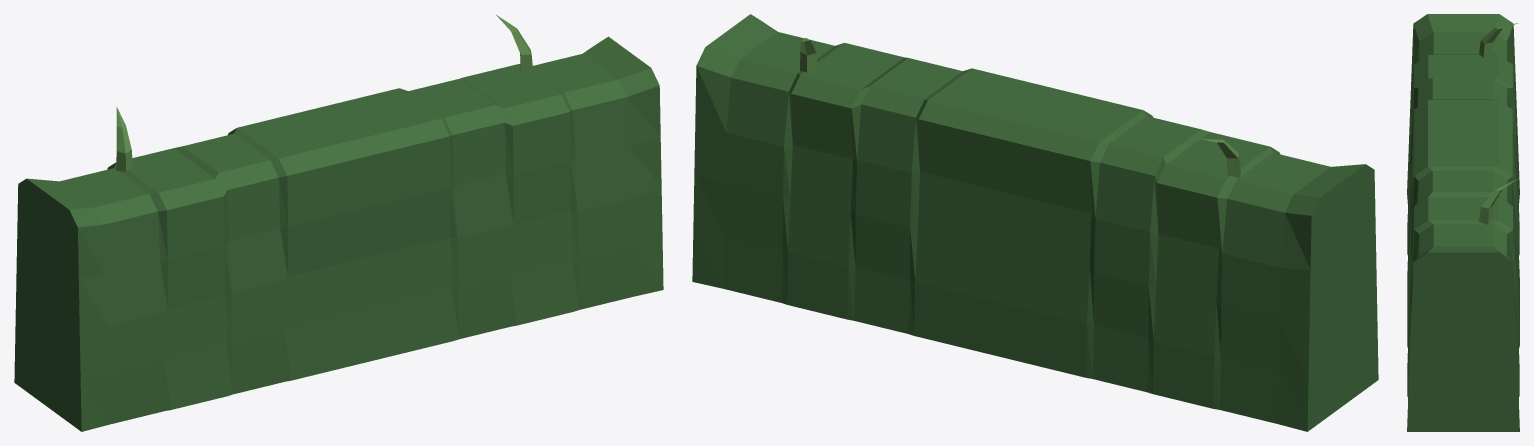
File: hedge.glb
3 renders of one model, left to right at view 1: azimuth 30°, elevation 25°; view 2: azimuth 150°, elevation 25°; view 3: azimuth 270°, elevation 25°, orthographic. The views are drawn at different scales.
Parts seen in each view (by area): view 1: hedge, sprigs-x-mesh; view 2: hedge, sprigs-x-mesh; view 3: hedge, sprigs-x-mesh.
Part boxes in pixels (x1,y1,x2,y2): hedge: [14, 36, 663, 431]; sprigs-x-mesh: [116, 15, 533, 171]; hedge: [692, 14, 1378, 431]; sprigs-x-mesh: [800, 38, 1240, 177]; hedge: [1407, 14, 1519, 431]; sprigs-x-mesh: [1479, 23, 1518, 224].
Bounding box in the file's own units: 4 × 1.66 × 0.8.
